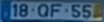1: (12, 2, 17, 17)
5: (70, 4, 81, 19), (82, 4, 92, 19)
8: (18, 3, 28, 18)
F: (50, 3, 62, 18)
Q: (36, 3, 49, 18)
